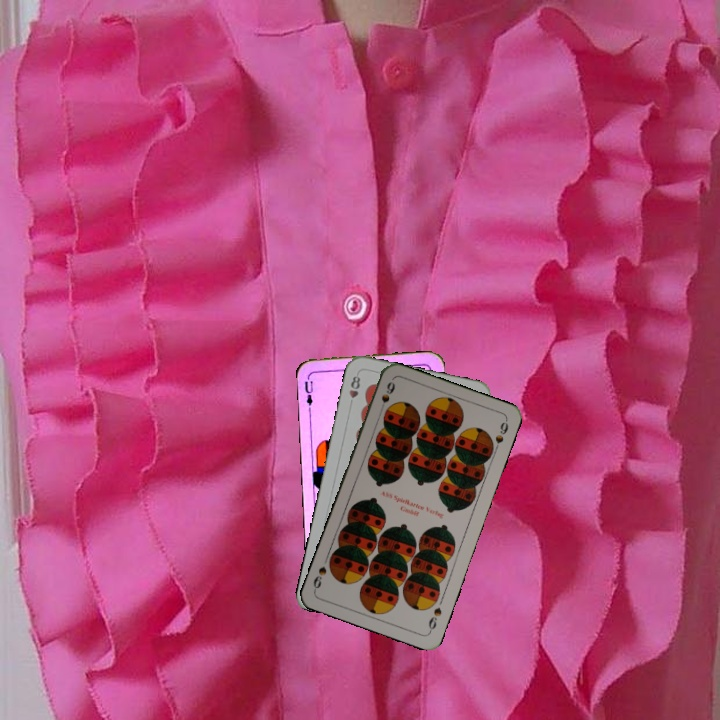EU: (301, 371, 315, 412)
H8: (345, 369, 363, 401)
S9: (376, 378, 398, 416), (424, 603, 444, 634)
